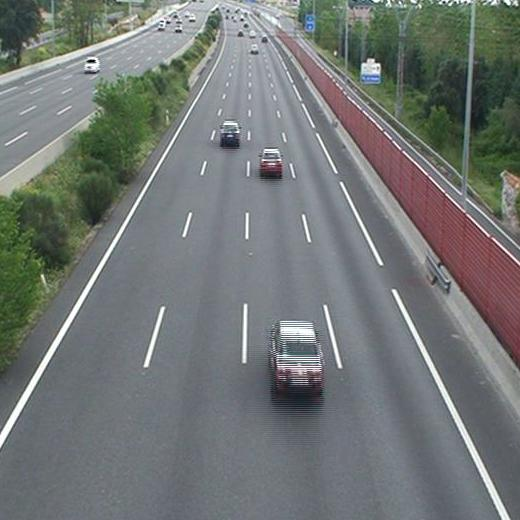car: (270, 322, 324, 392), (260, 148, 282, 175), (221, 121, 239, 145), (250, 44, 258, 53)
